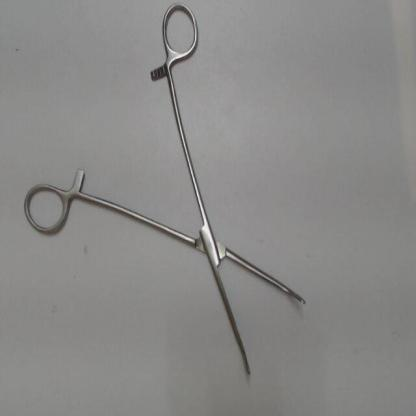Lahey Forceps: (19, 3, 317, 386)
